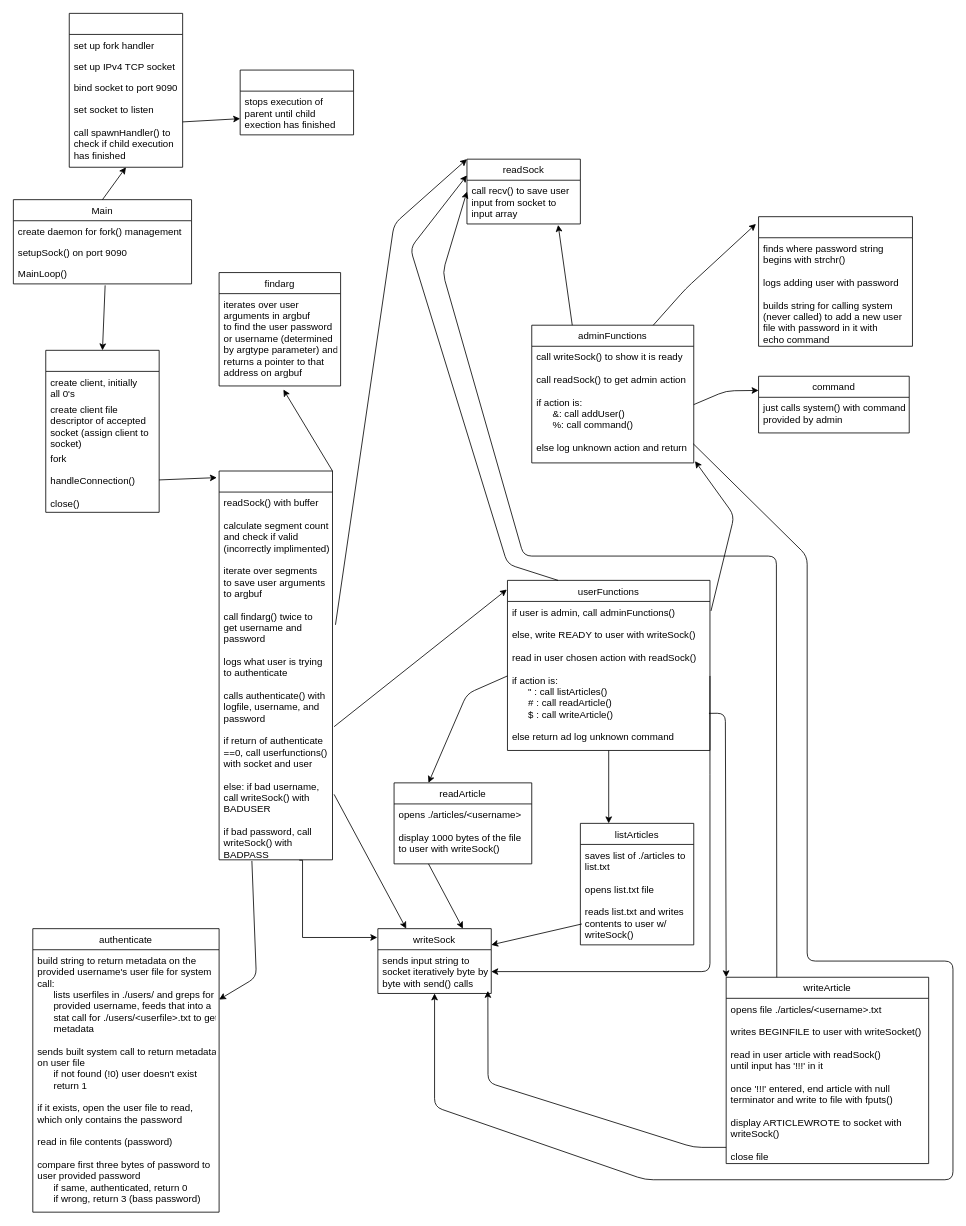
Image size: 966x1226. Some labels were removed from this diagram. Here are the shapes that lost their labels. From the top down, the box of each, then its label:
(68, 13, 183, 167): setupSock
(239, 69, 354, 135): spawnHandler
(758, 216, 912, 346): addUser
(45, 350, 159, 512): MainLoop
(218, 470, 333, 860): handleConnection
